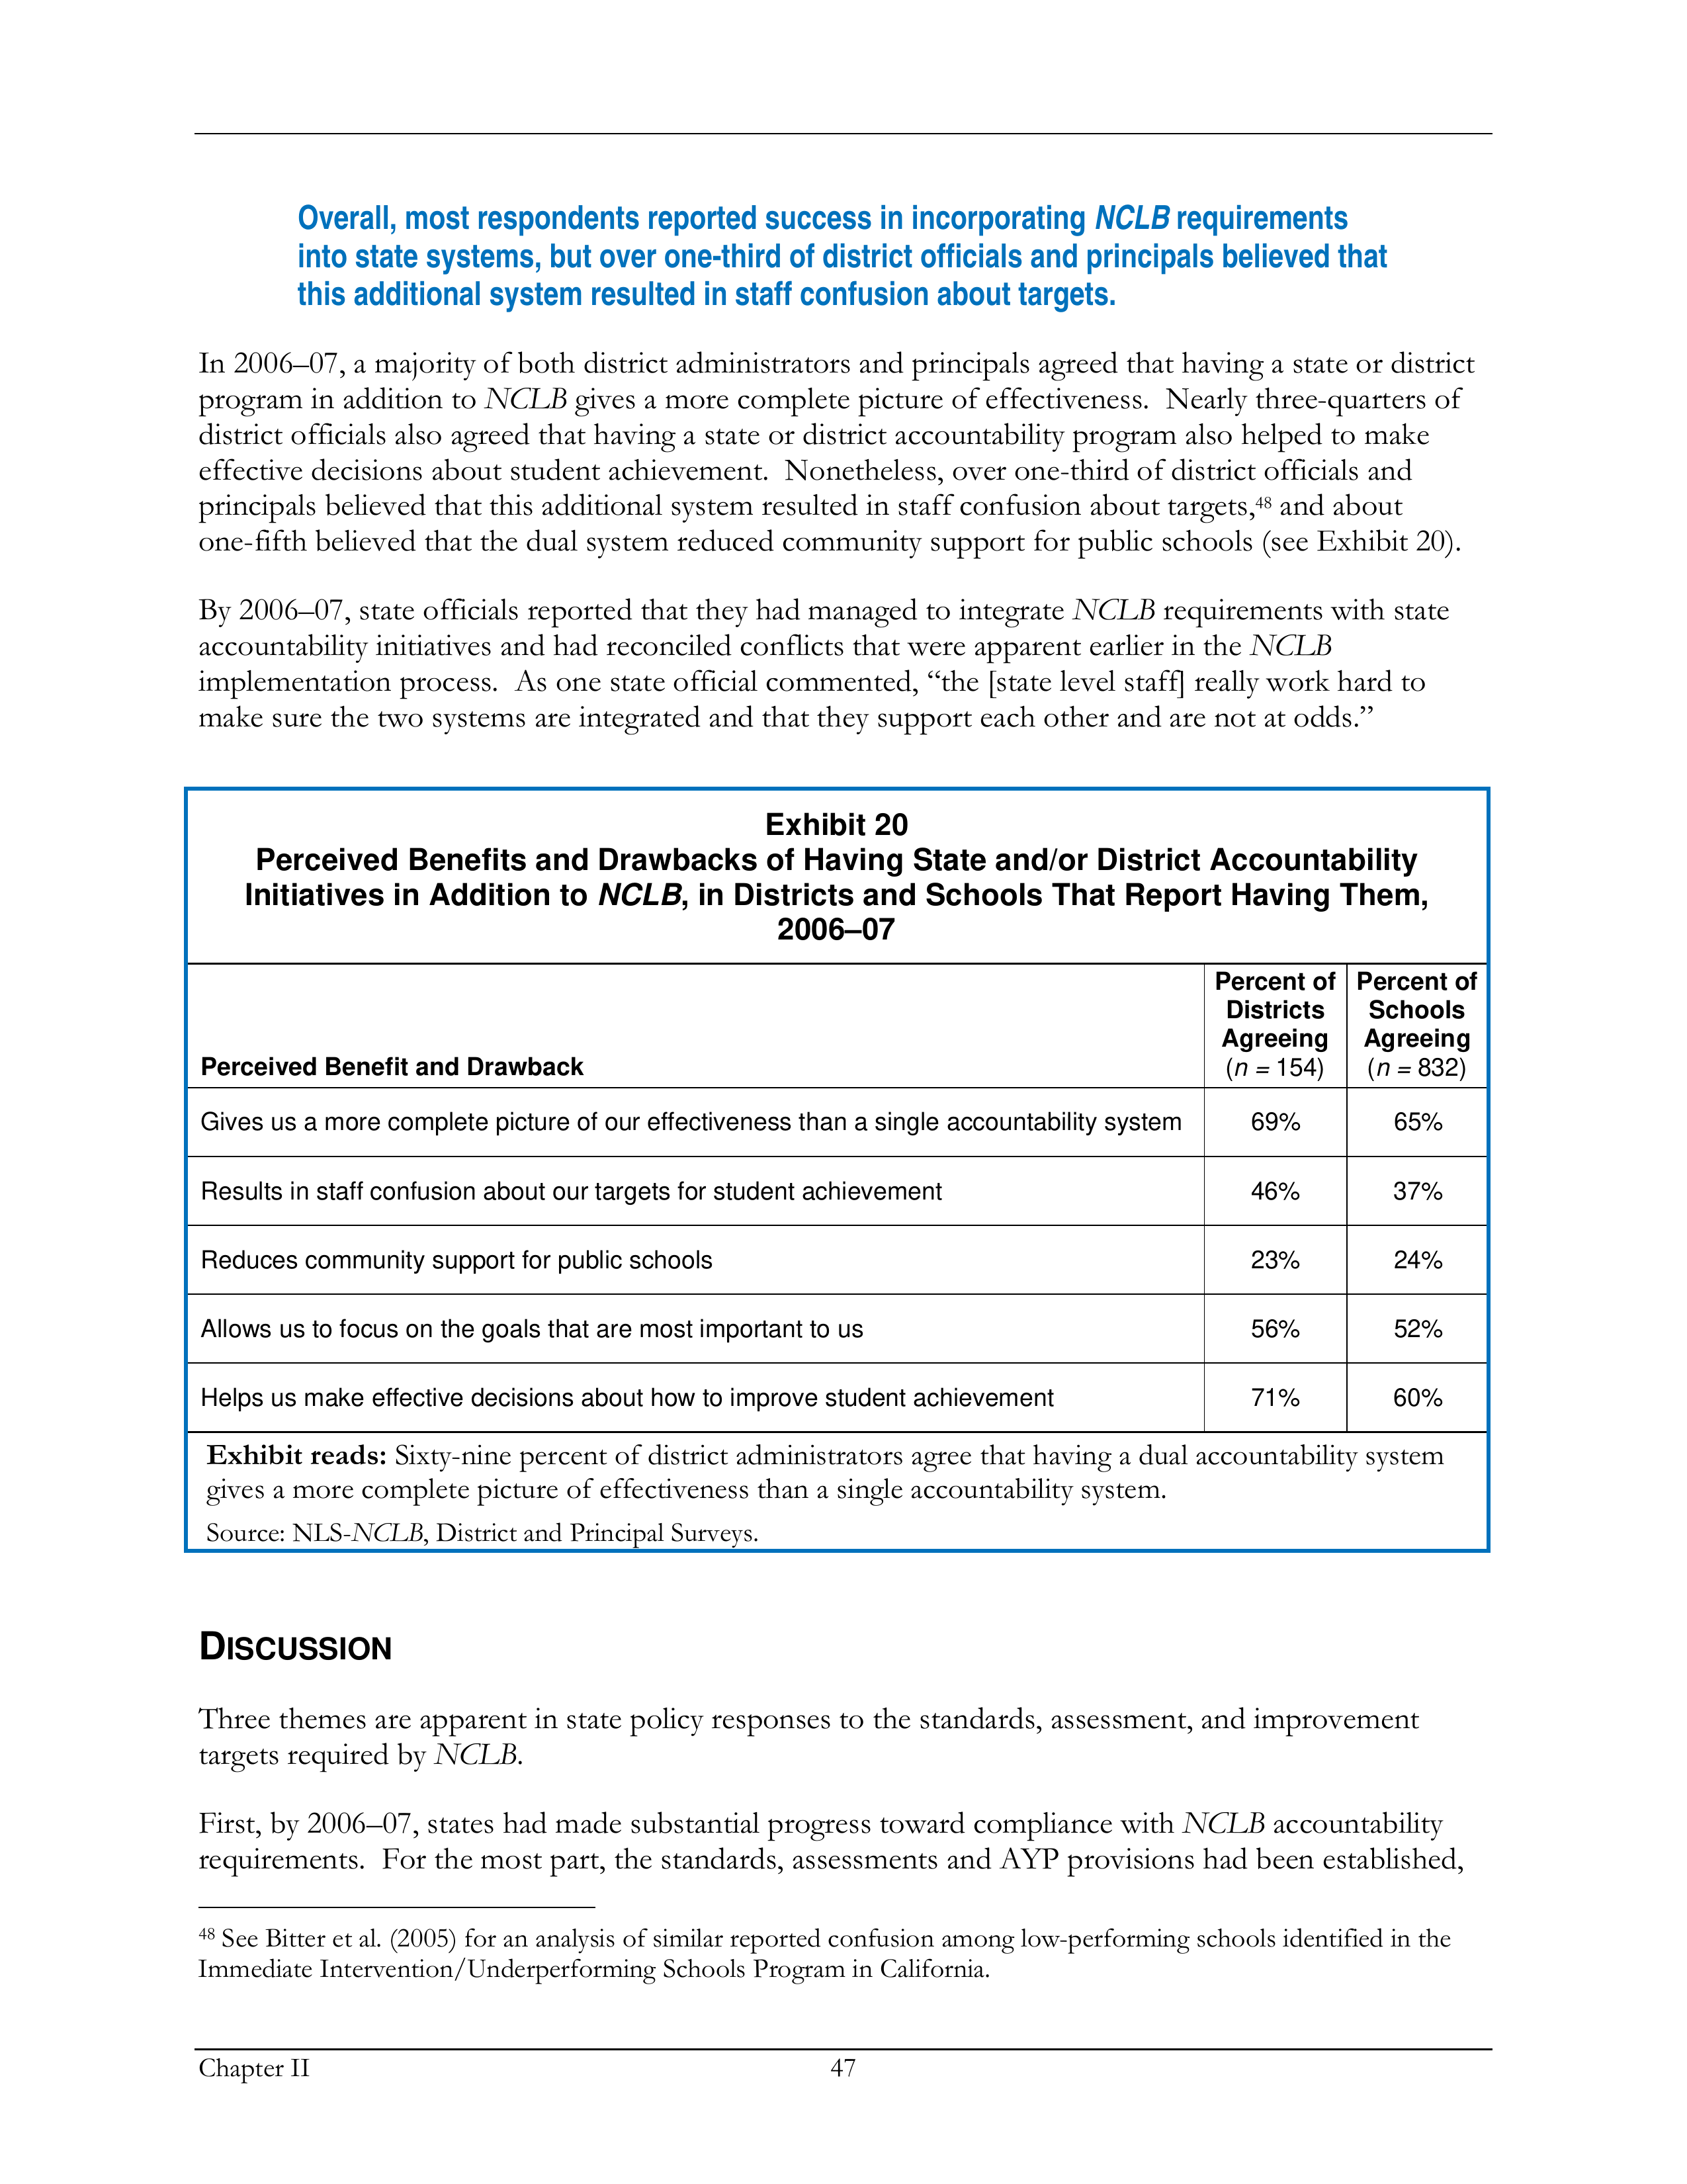table: (183, 960, 1492, 1435)
